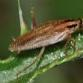cockroach: (8, 18, 82, 51)
